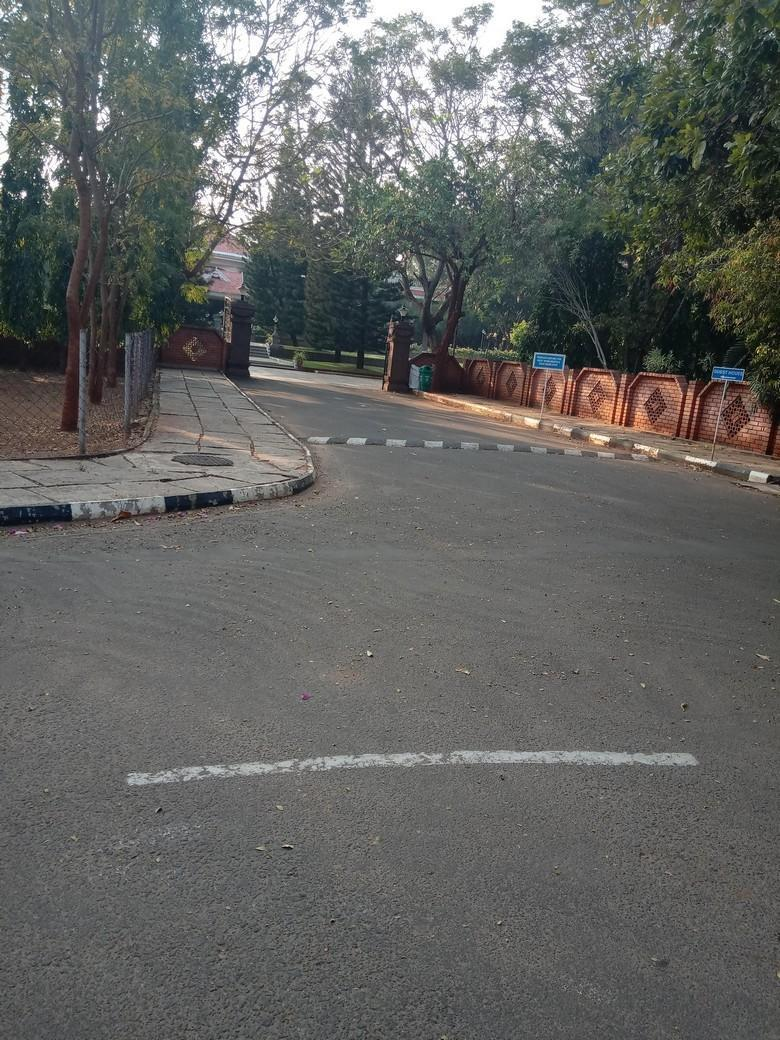speedbreaker: (306, 425, 667, 461), (302, 433, 655, 454)
